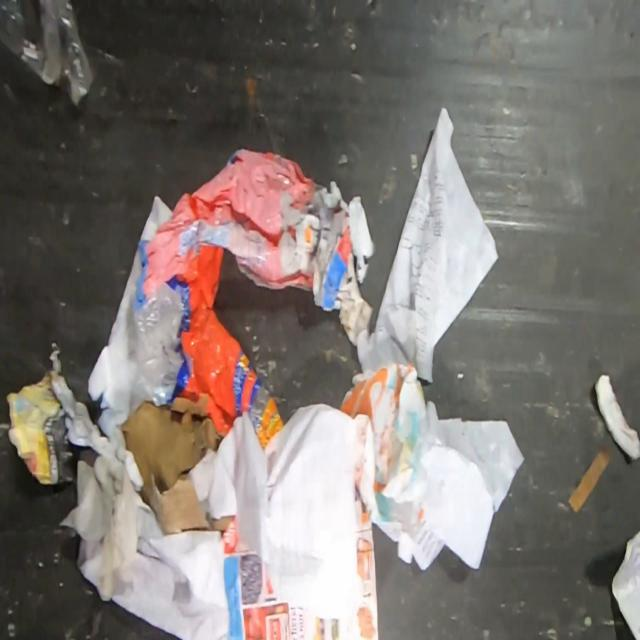cardboard: (120, 394, 237, 540)
soft_plastic: (131, 149, 315, 451), (0, 0, 97, 117)
